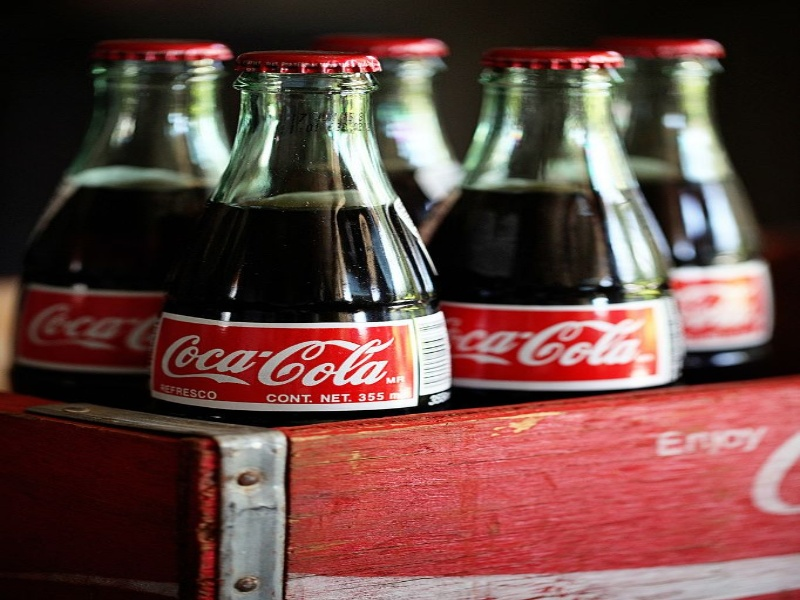Glass bottle: (153, 26, 473, 431), (407, 14, 699, 424), (10, 24, 257, 433), (593, 15, 789, 376), (304, 17, 478, 241)
